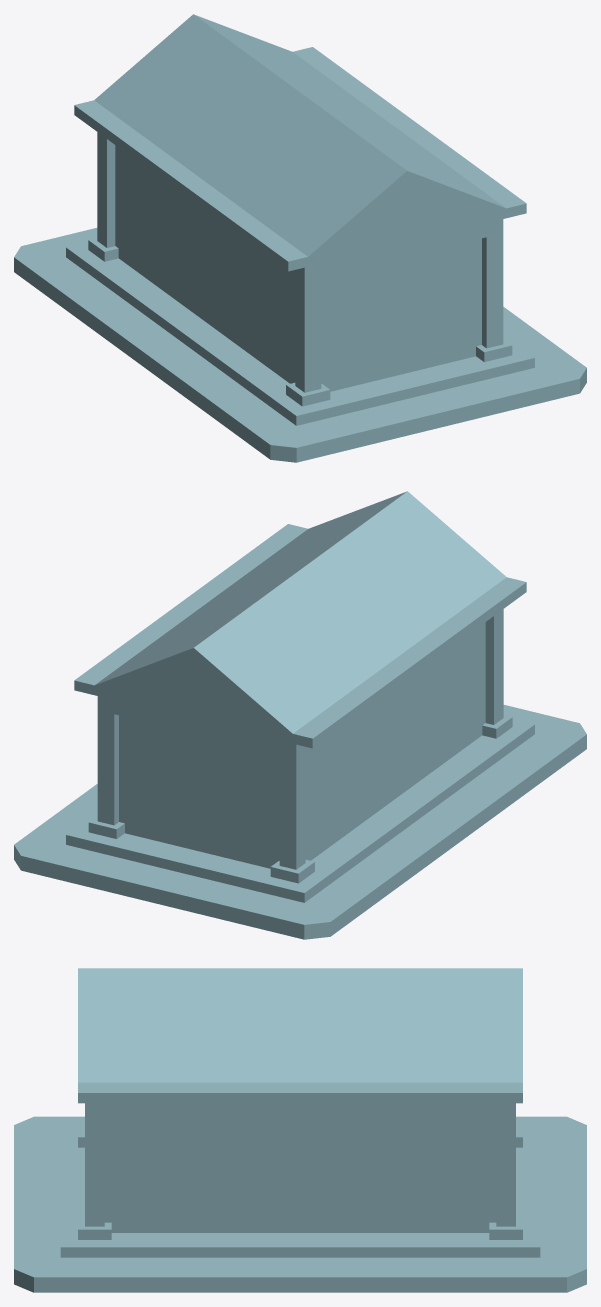
File: crypt.fbx
The picture shows the model from 3 angles, top to bottom: view 1: azimuth 30°, elevation 25°; view 2: azimuth 150°, elevation 25°; view 3: azimuth 270°, elevation 25°; orthographic projection. The views are drawn at different scales.
Parts seen in each view (by area): view 1: crypt; view 2: crypt; view 3: crypt.
Boxes of the visible parts, x1,y1,x2,y2 form: crypt: [14, 14, 586, 462]; crypt: [14, 491, 586, 939]; crypt: [14, 968, 586, 1292].
Size of the model in its own units: 7.5 by 5.32 by 11.31.
